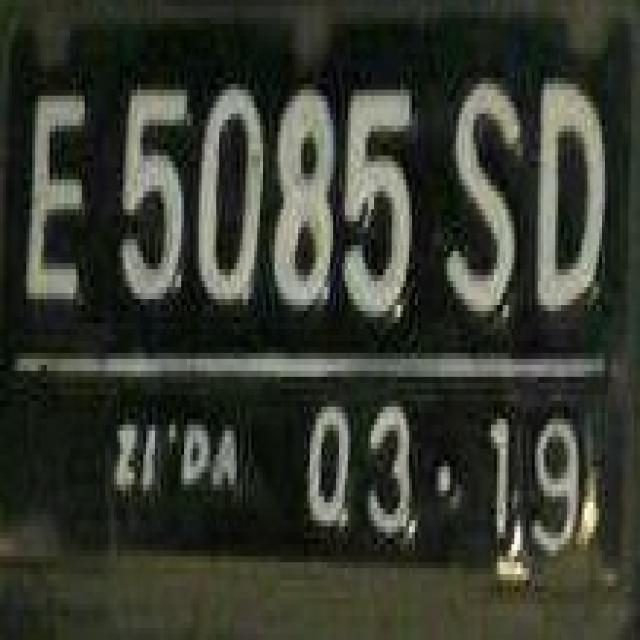plate: (12, 6, 637, 598)
